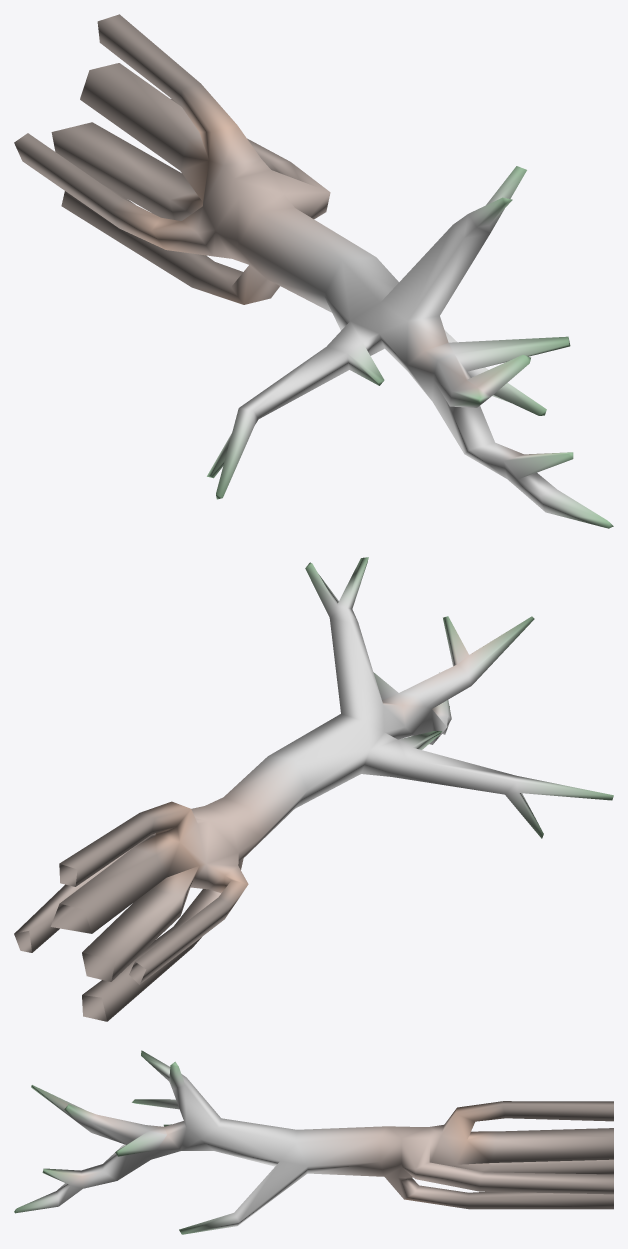
The model's file is Mangrove_C.glb.
3 views of the same model, one above another, from view 1: azimuth 30°, elevation 25°; view 2: azimuth 150°, elevation 25°; view 3: azimuth 270°, elevation 25° (orthographic). The views are drawn at different scales.
Visible parts, largest first — view 1: MeshNode_0; view 2: MeshNode_0; view 3: MeshNode_0.
Boxes of the visible parts, x1,y1,x2,y2 form: MeshNode_0: [14, 14, 613, 528]; MeshNode_0: [14, 557, 613, 1021]; MeshNode_0: [14, 1050, 613, 1234].
Size of the model in its own units: 18.38 by 13.1 by 41.8.
